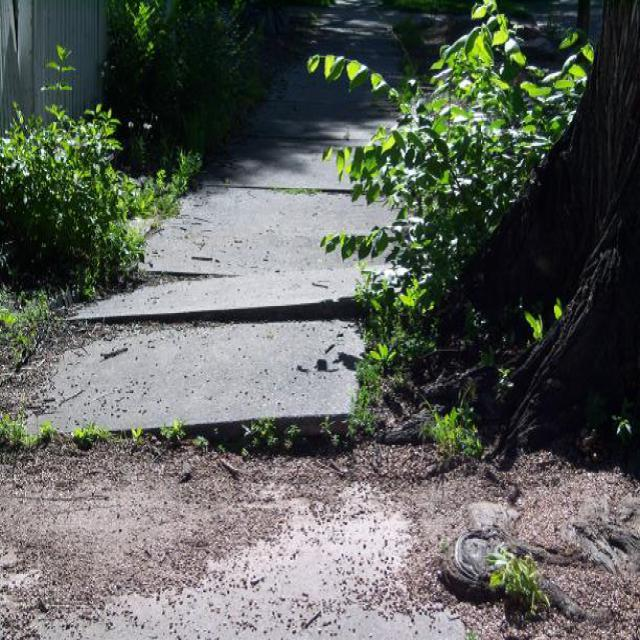hole: (74, 388, 428, 476), (126, 284, 403, 346)
